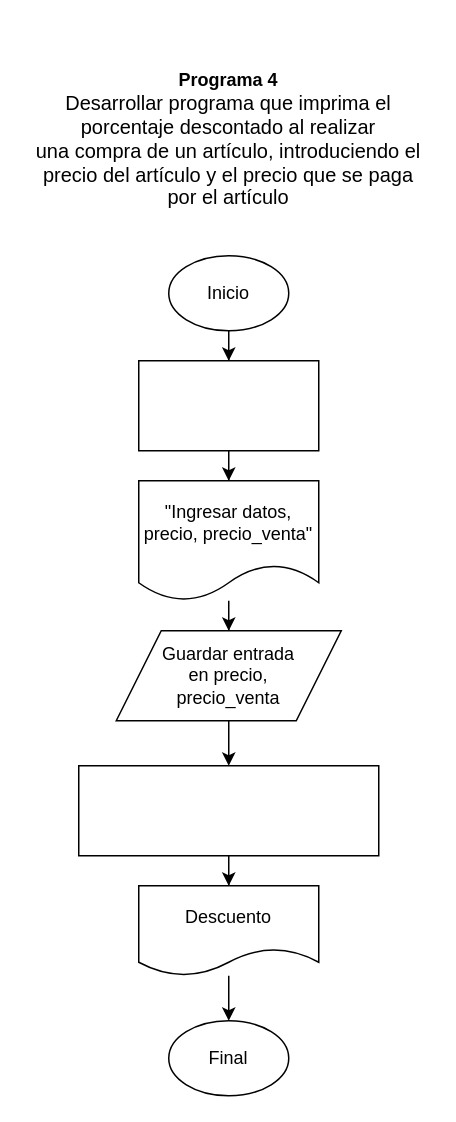
Image size: 456x1122. Some labels were removed from this diagram. The box of each missing label's shape, as (x1, y1, x2, y2) in pixels:
Decalara variables precio, precio_venta, descuento: (137, 359, 319, 451)
descuento = (1 - precio_venta/precio)*100;: (77, 764, 379, 856)
